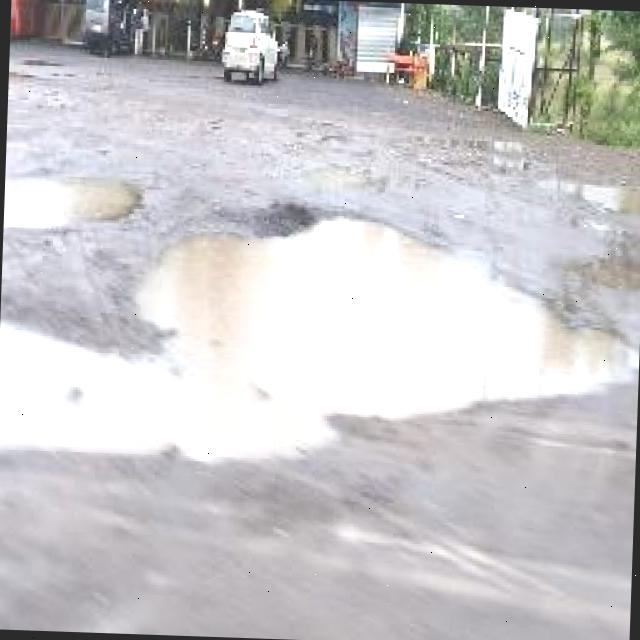waterlogging: (3, 162, 152, 240)
